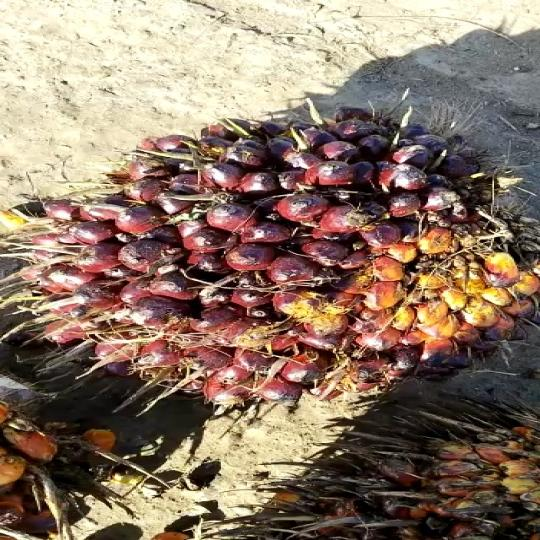kurang masak: (23, 85, 520, 408)
